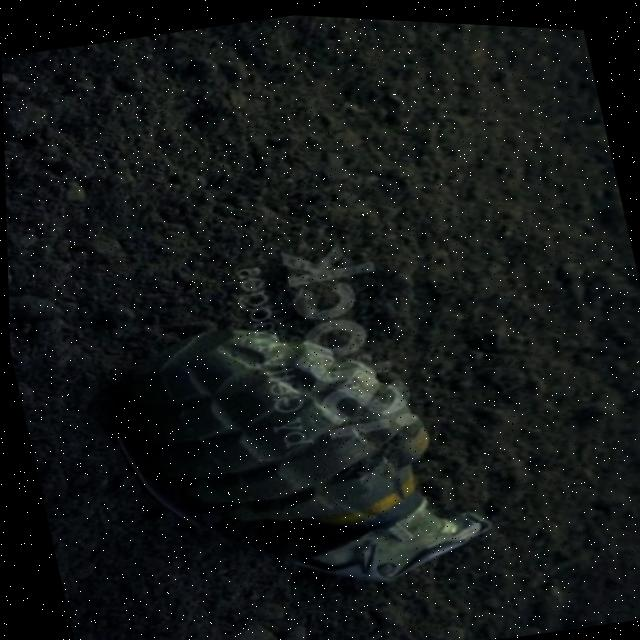grenade: (72, 264, 500, 640)
